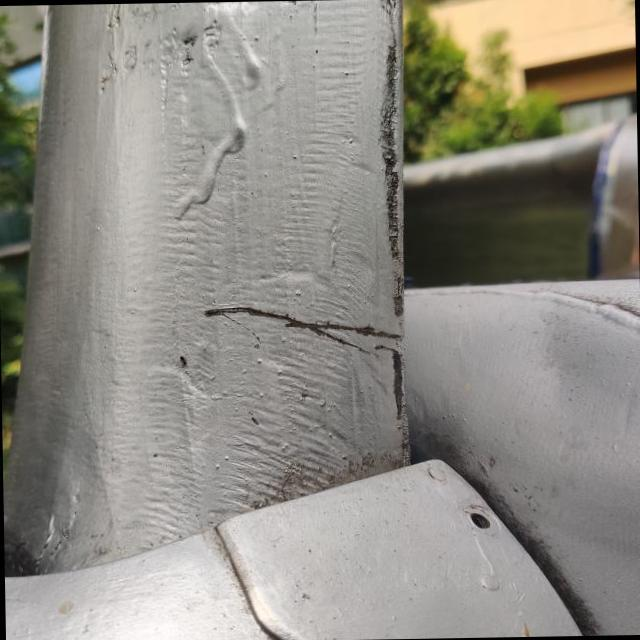Fastener Damage: (449, 489, 514, 550)
